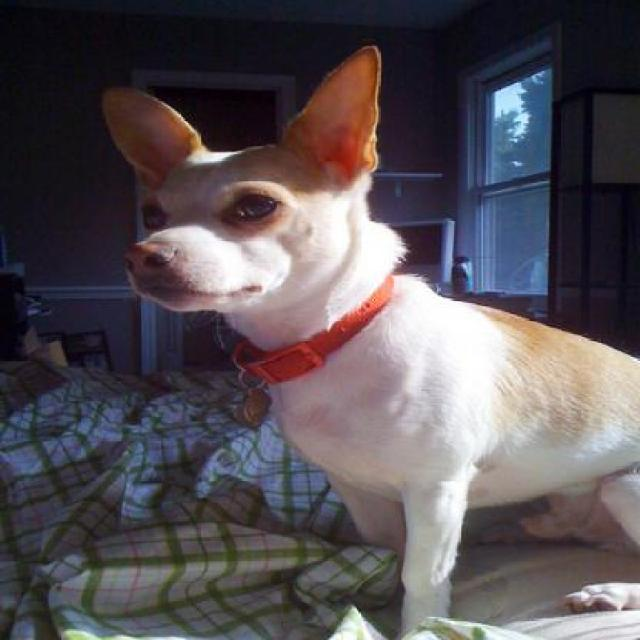Dog: (96, 43, 638, 639)
